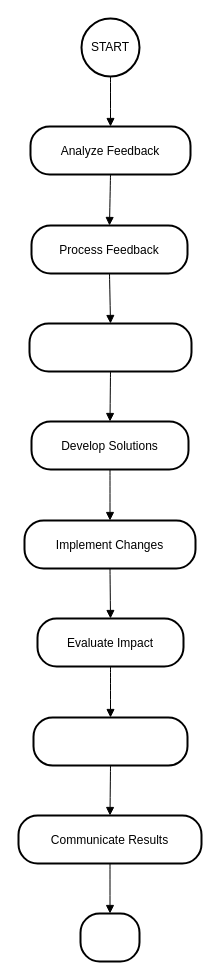
Some shapes in this 219 by 979 pixel diagram are drawn without their labels. The box of each missing label's shape, as (x1, y1, x2, y2) in pixels:
END: (79, 912, 140, 962)
Identify Key Issues: (28, 322, 192, 372)
Review Feedback: (32, 716, 188, 766)
